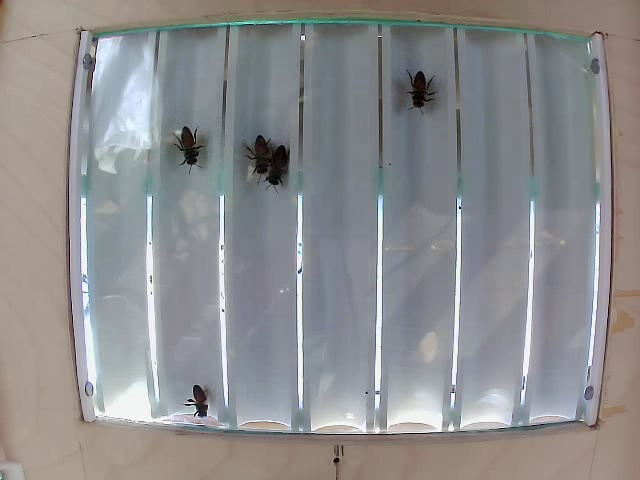bee: (406, 63, 445, 117), (242, 127, 276, 187), (184, 374, 218, 429), (179, 121, 209, 169), (272, 140, 287, 192)
